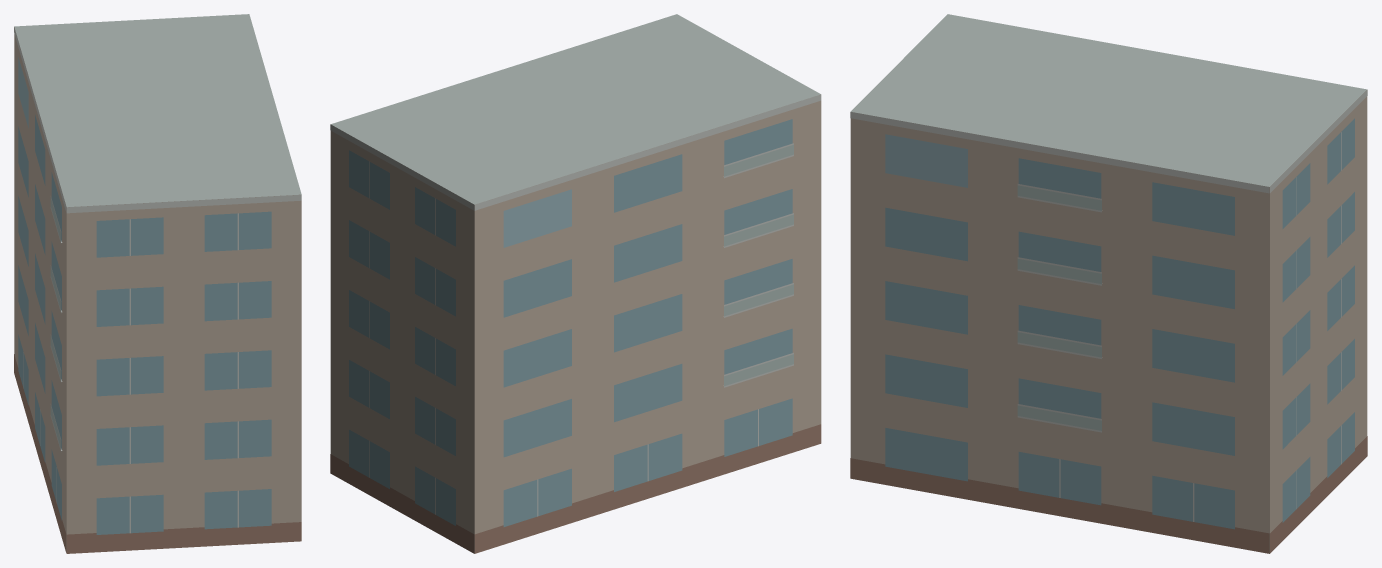
The model's file is survey-upis-32537543.glb.
3 renders of one model, left to right at view 1: azimuth 30°, elevation 25°; view 2: azimuth 150°, elevation 25°; view 3: azimuth 270°, elevation 25°, orthographic. The views are drawn at different scales.
Parts seen in each view (by area): view 1: survey-upis-32537543.tmp; view 2: survey-upis-32537543.tmp; view 3: survey-upis-32537543.tmp.
Part boxes in pixels (bbox=[...]): survey-upis-32537543.tmp: bbox=[14, 14, 301, 553]; survey-upis-32537543.tmp: bbox=[330, 14, 821, 553]; survey-upis-32537543.tmp: bbox=[850, 14, 1367, 553].
Size of the model in its own units: 13.97 by 13.8 by 17.63.
